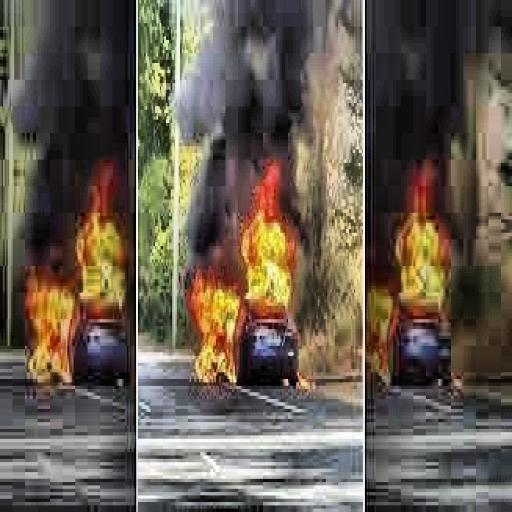fire: (233, 203, 302, 329), (185, 260, 244, 392)
